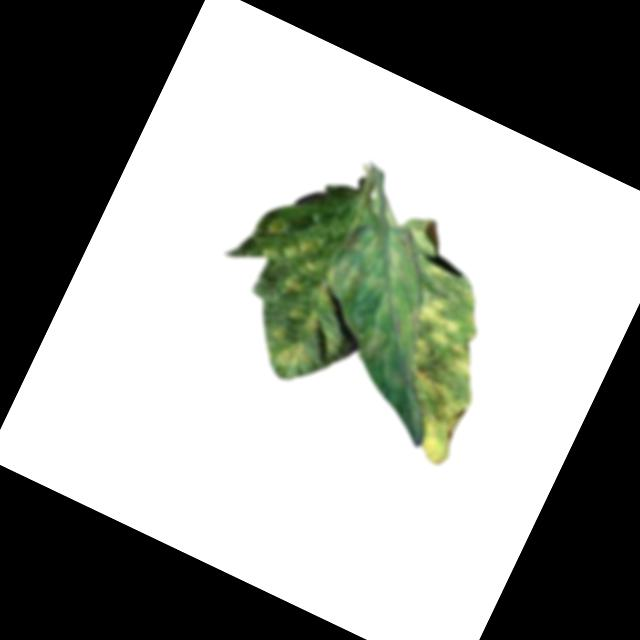Leaf_Mold: (351, 260, 523, 467), (300, 210, 448, 376), (246, 211, 337, 298), (260, 323, 321, 381), (285, 298, 330, 338)
